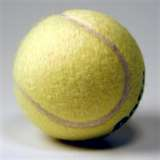tennis ball: (12, 7, 147, 144)
